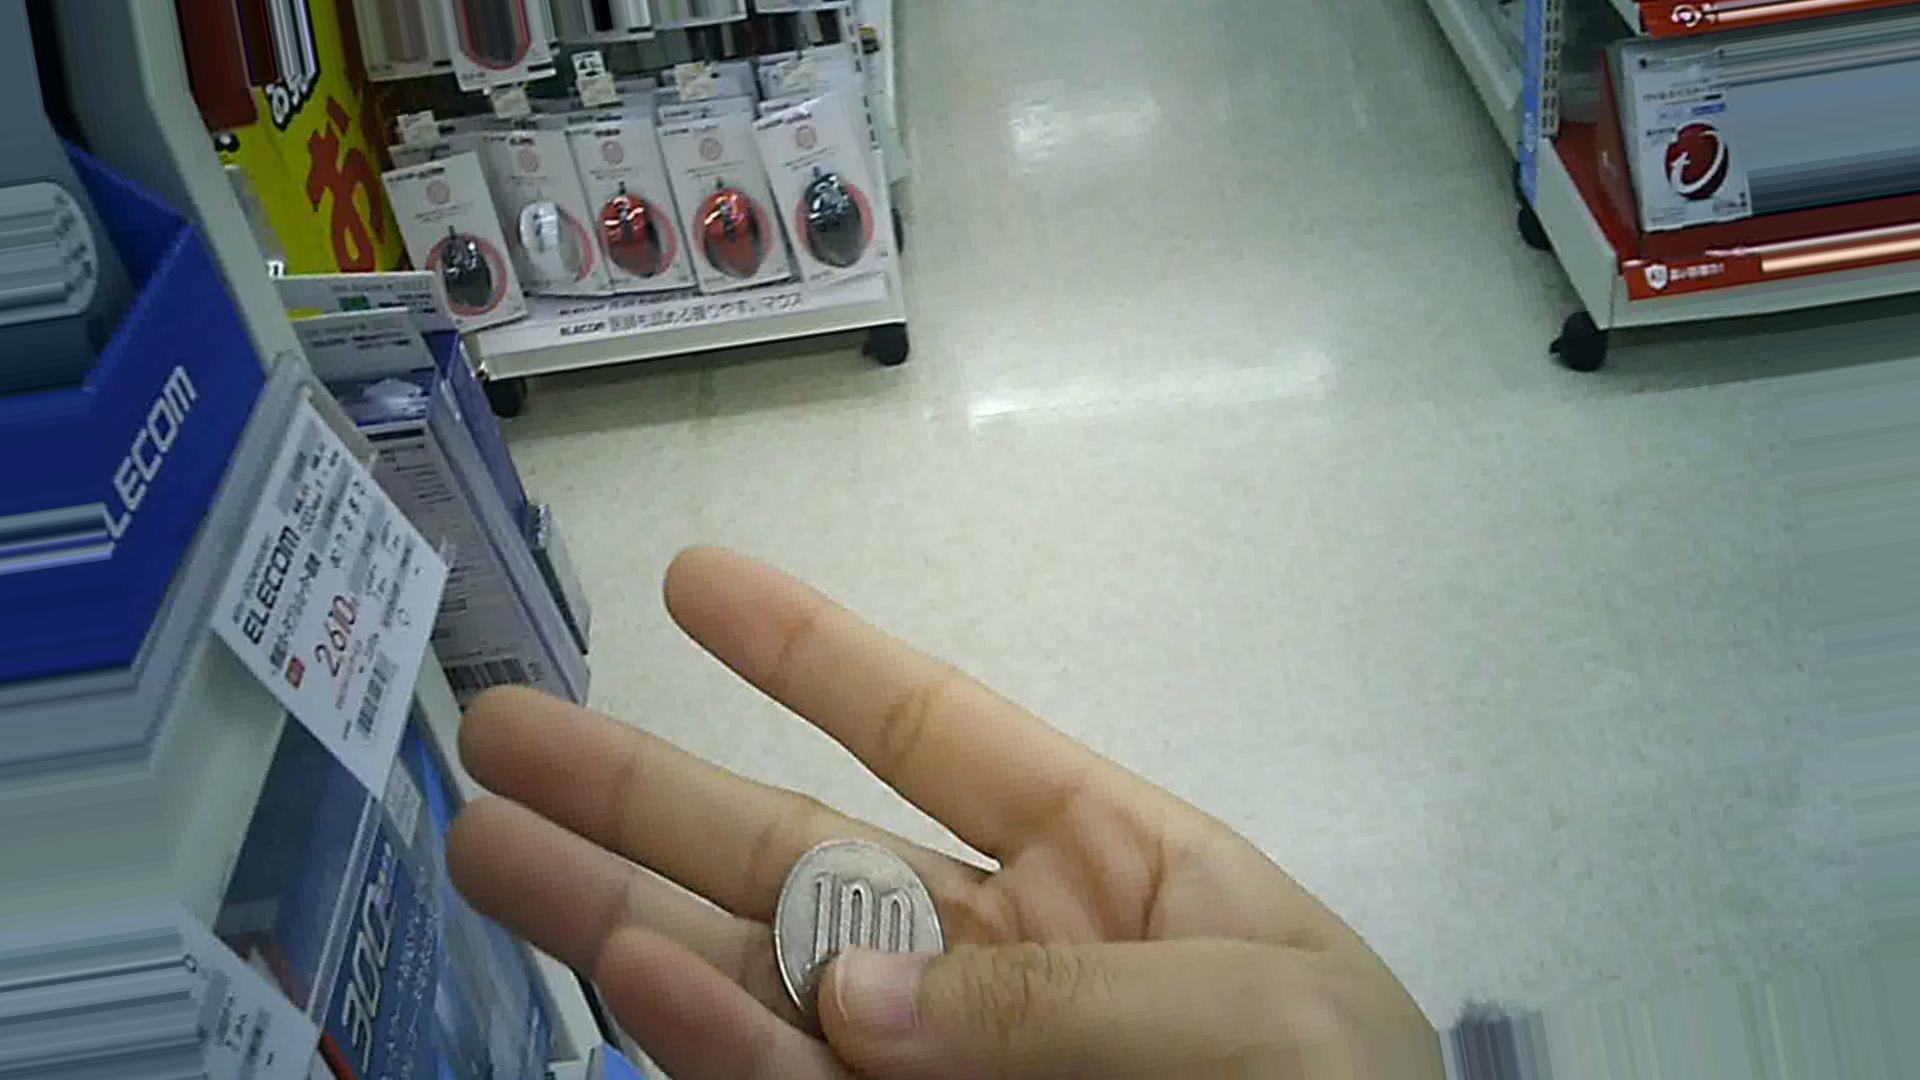100 Yen: (767, 822, 936, 1015)
